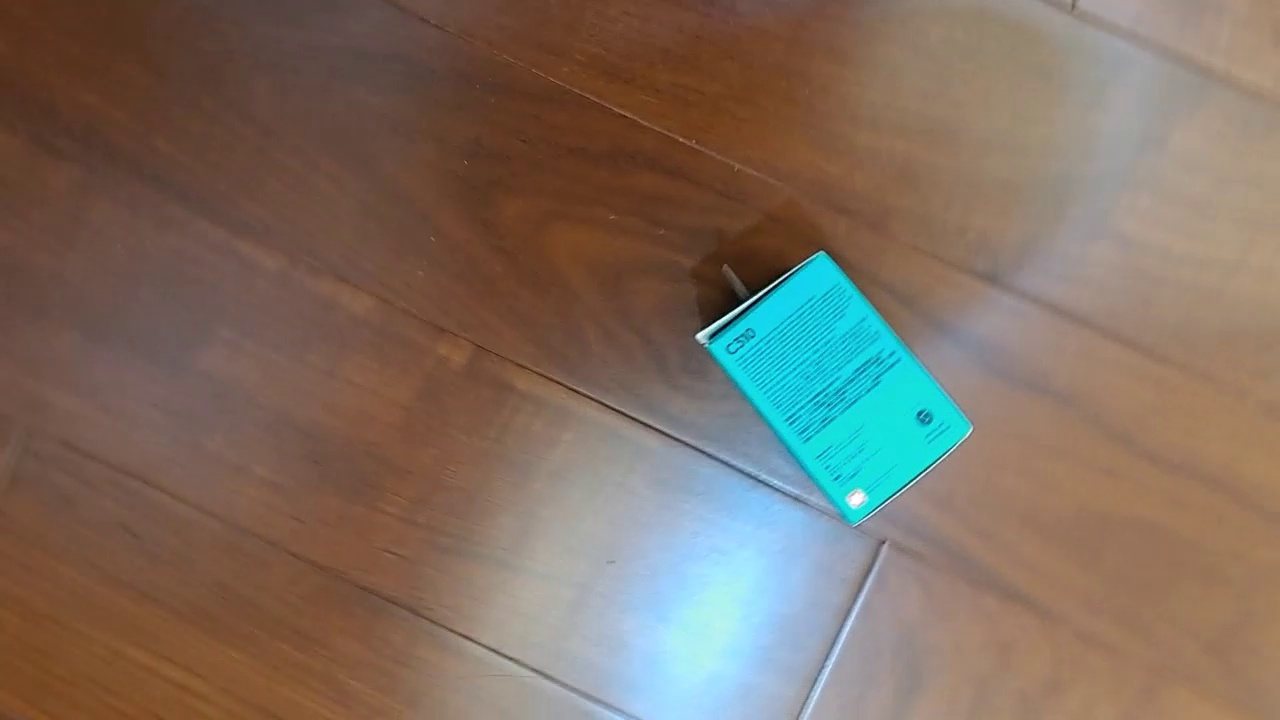webcam: (694, 249, 975, 529)
